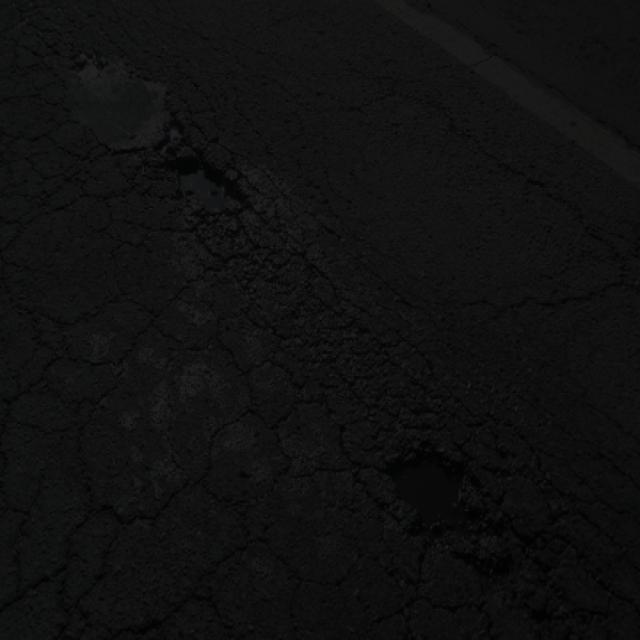pothole: (363, 425, 522, 575), (144, 140, 266, 256)
